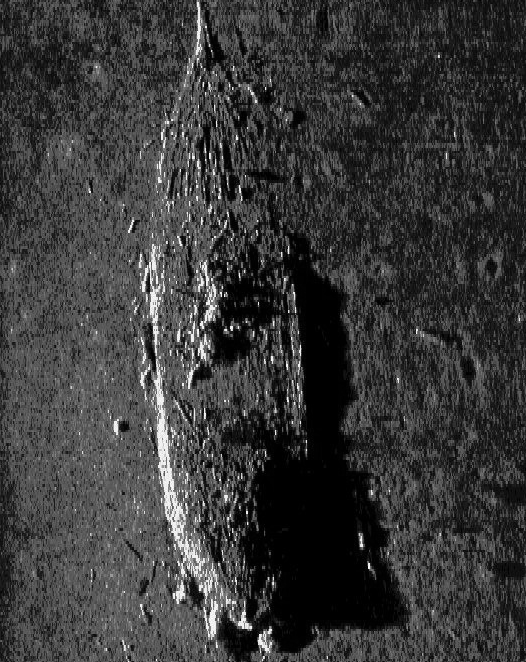ship: (135, 1, 319, 660)
